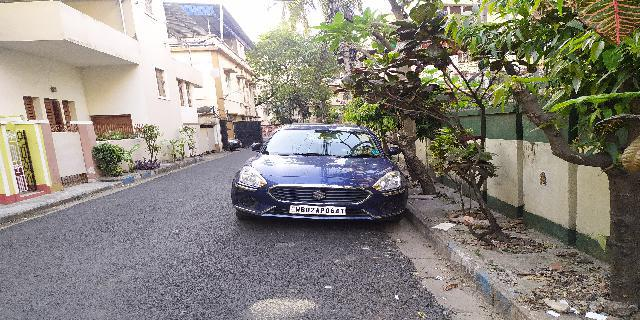Car: (232, 114, 411, 227)
